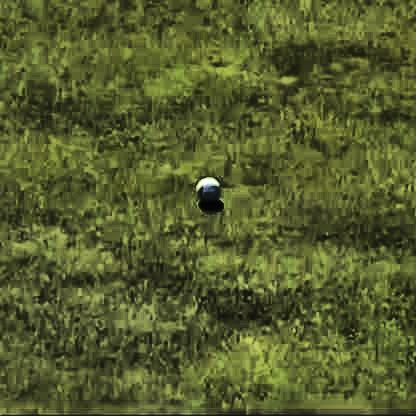golfball: (194, 171, 219, 199)
